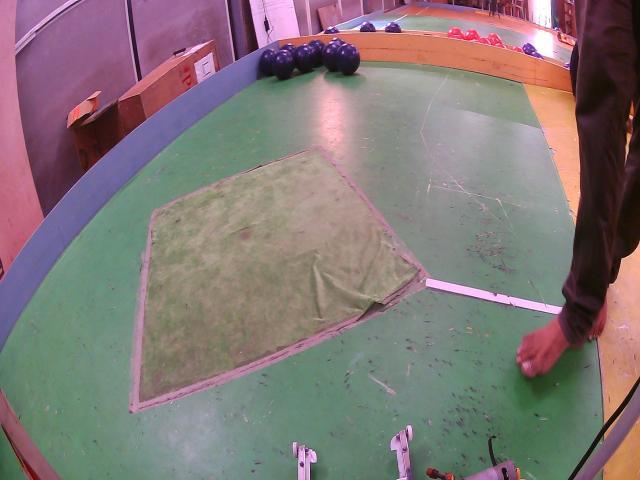jambhalya: (522, 43, 536, 55), (531, 52, 544, 59)
kaalyya: (336, 43, 360, 75), (271, 50, 295, 80), (295, 43, 316, 73), (321, 42, 339, 72), (259, 48, 276, 77), (309, 40, 325, 66), (280, 43, 296, 54), (360, 22, 376, 33), (385, 22, 401, 33), (331, 38, 345, 45), (324, 27, 339, 32)
